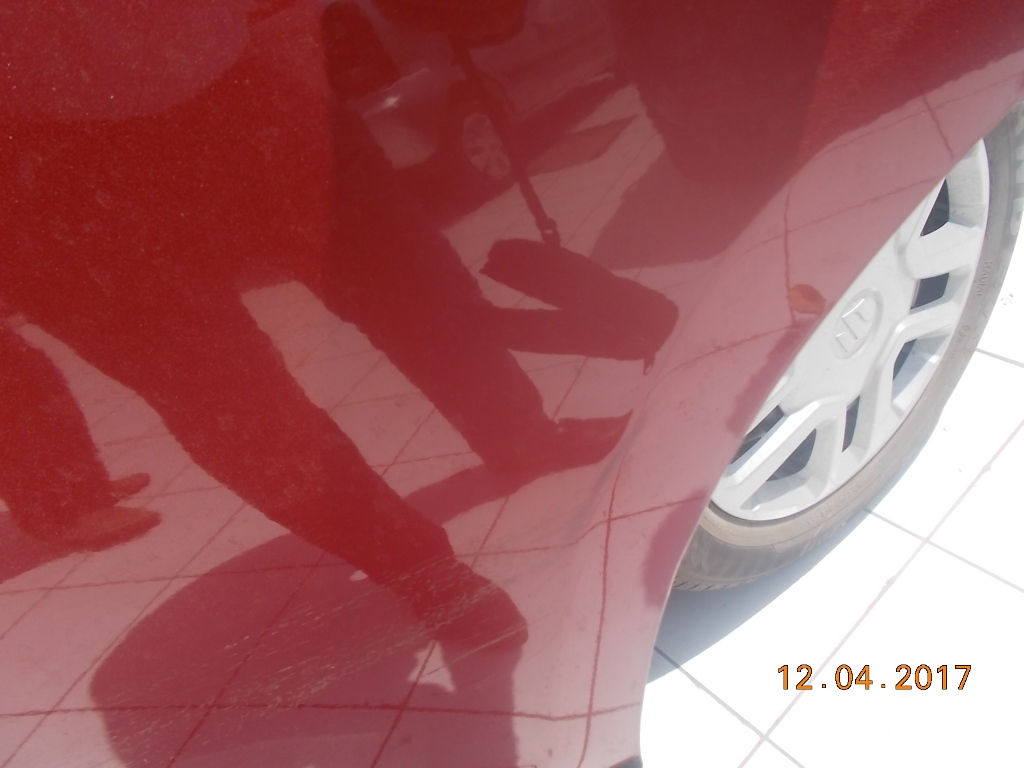Large_dent: (101, 148, 389, 373)
